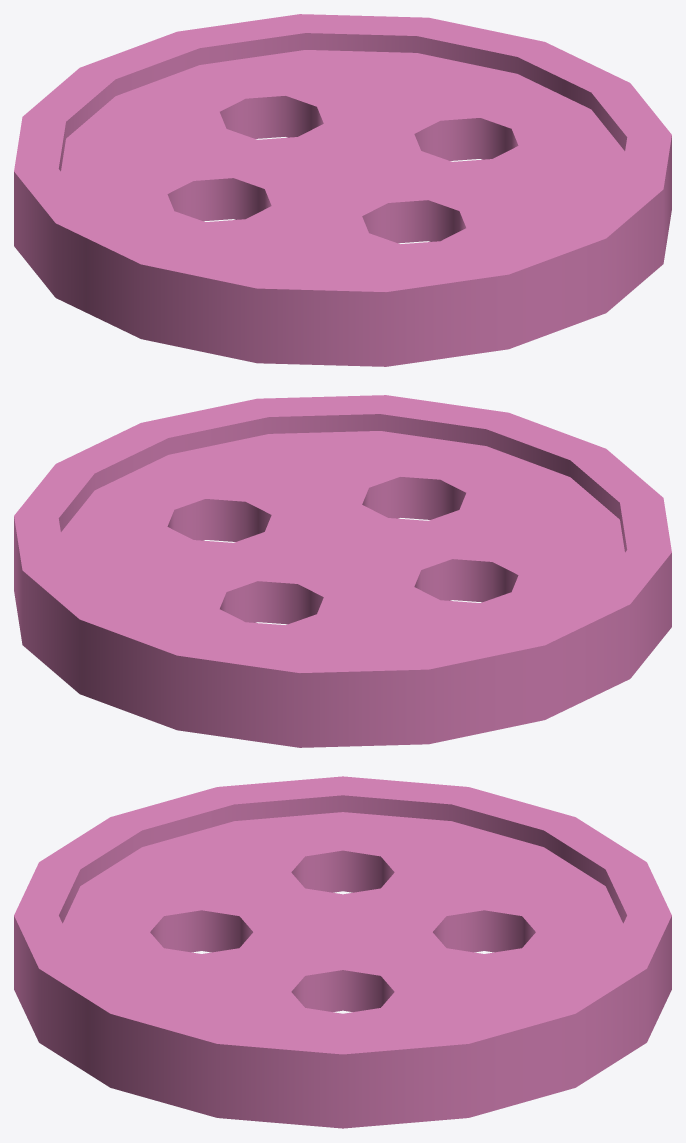
The model's file is Shirt_Button_Low.fbx.
3 views of the same model, one above another, from view 1: azimuth 30°, elevation 25°; view 2: azimuth 150°, elevation 25°; view 3: azimuth 270°, elevation 25° (orthographic).
Visible parts, largest first — view 1: Shirt_button_low; view 2: Shirt_button_low; view 3: Shirt_button_low.
Part boxes in pixels (box(x1,y1,x2,y2)): Shirt_button_low: box(14, 14, 671, 366); Shirt_button_low: box(14, 395, 671, 747); Shirt_button_low: box(14, 776, 671, 1128).
Size of the model in its own units: 155 by 19.25 by 155.
